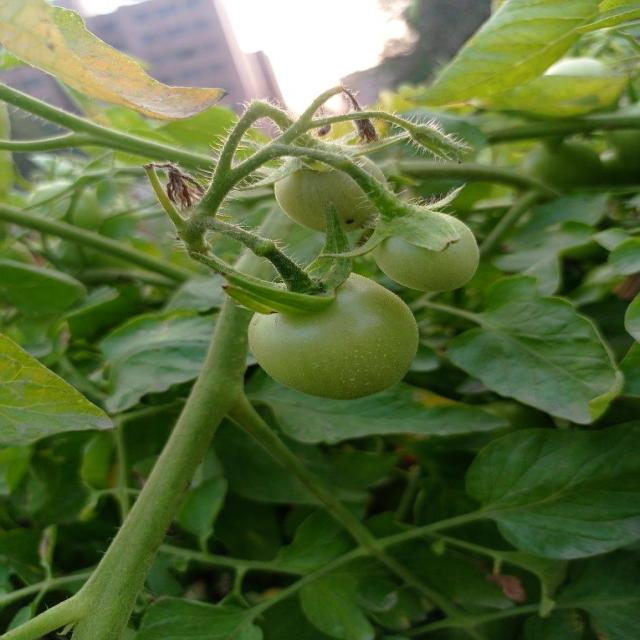Unripe: (245, 267, 420, 401), (274, 141, 398, 236), (370, 199, 483, 291)
